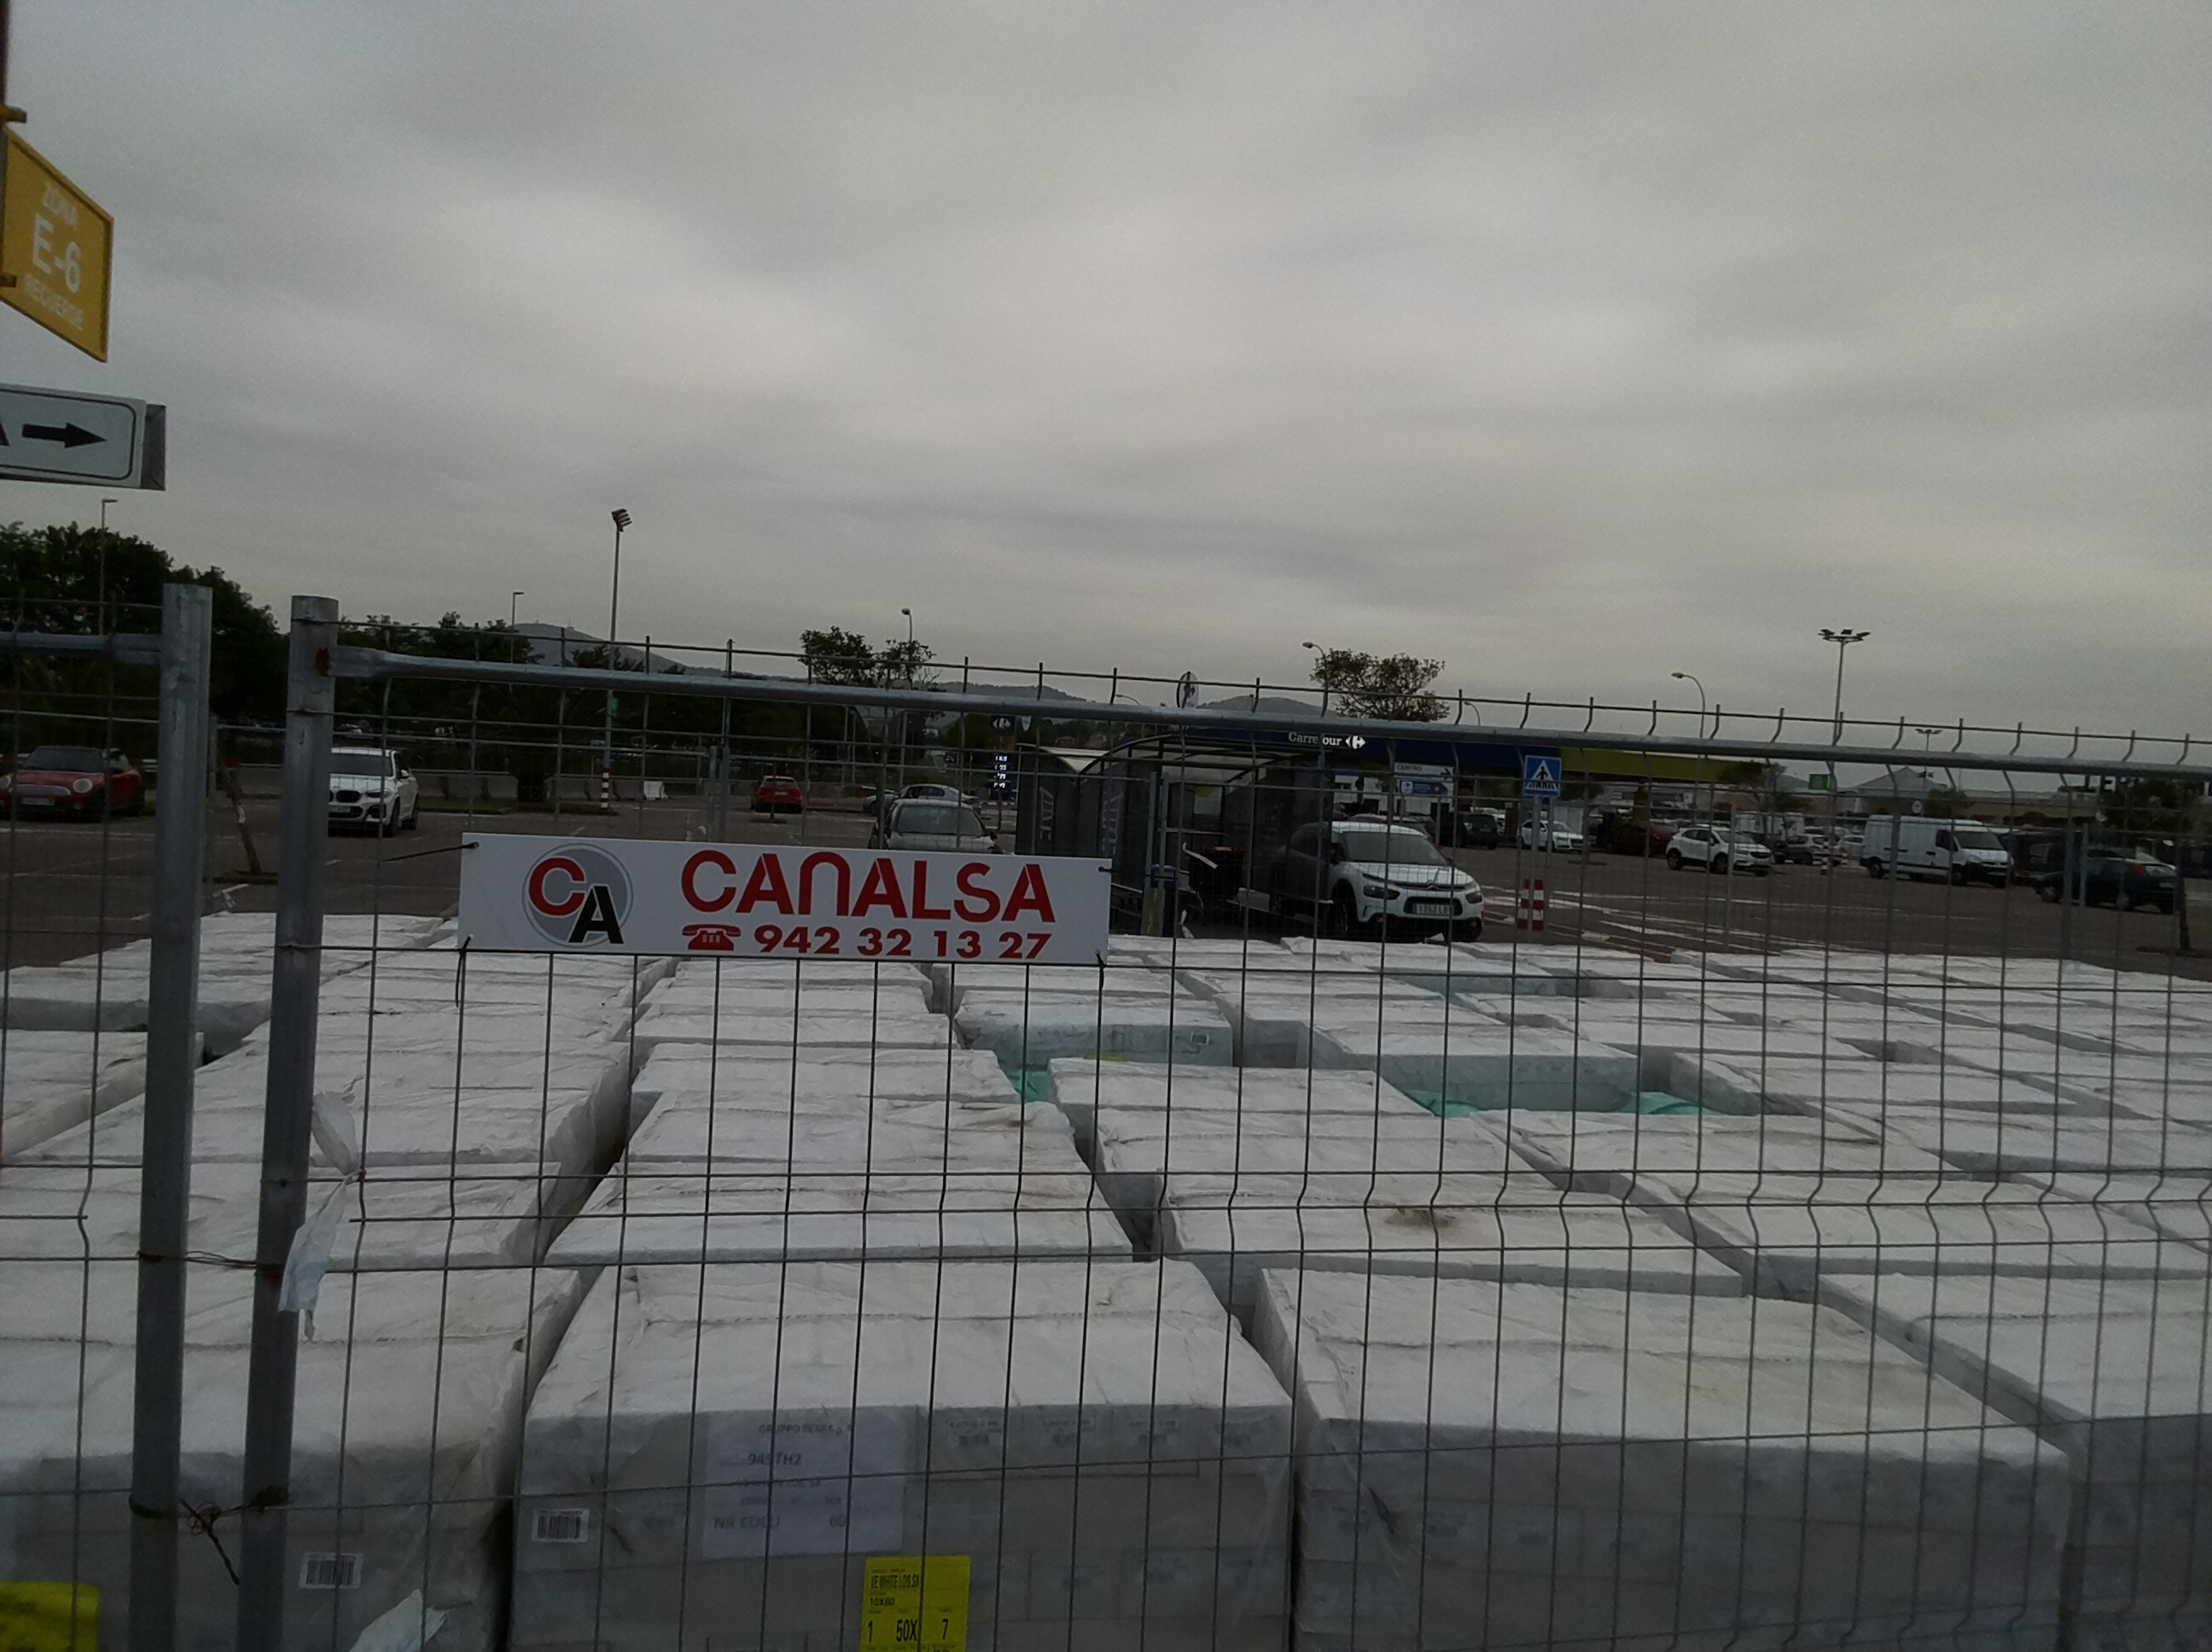Cartel: (453, 824, 1119, 979)
Muro: (448, 1248, 2058, 1652)
Poste: (262, 576, 330, 1652)
Valla: (316, 677, 2212, 1652)
